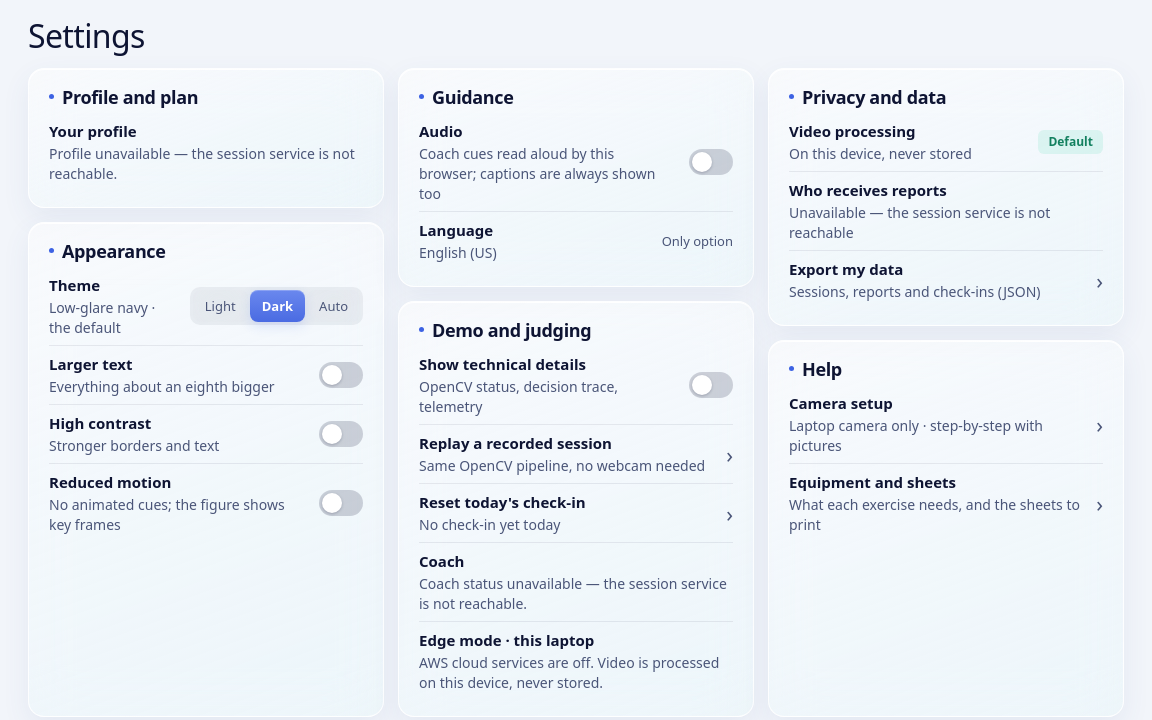
Scenario: theme is a Light / Dark / Auto choice, dark by default
The width and height of the screenshot is (1152, 720).
Click the radio button labelled "Light": click(220, 306) [193,290,248,322]
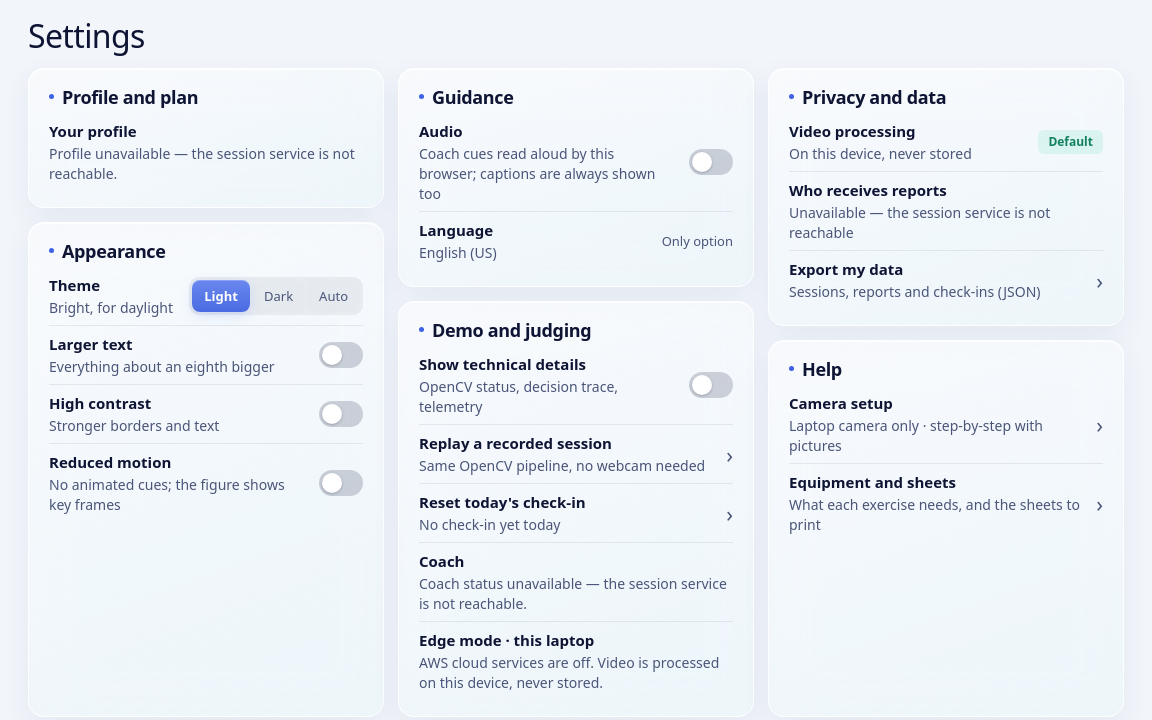
Click the radio button labelled "Auto": click(334, 296) [307,280,360,312]
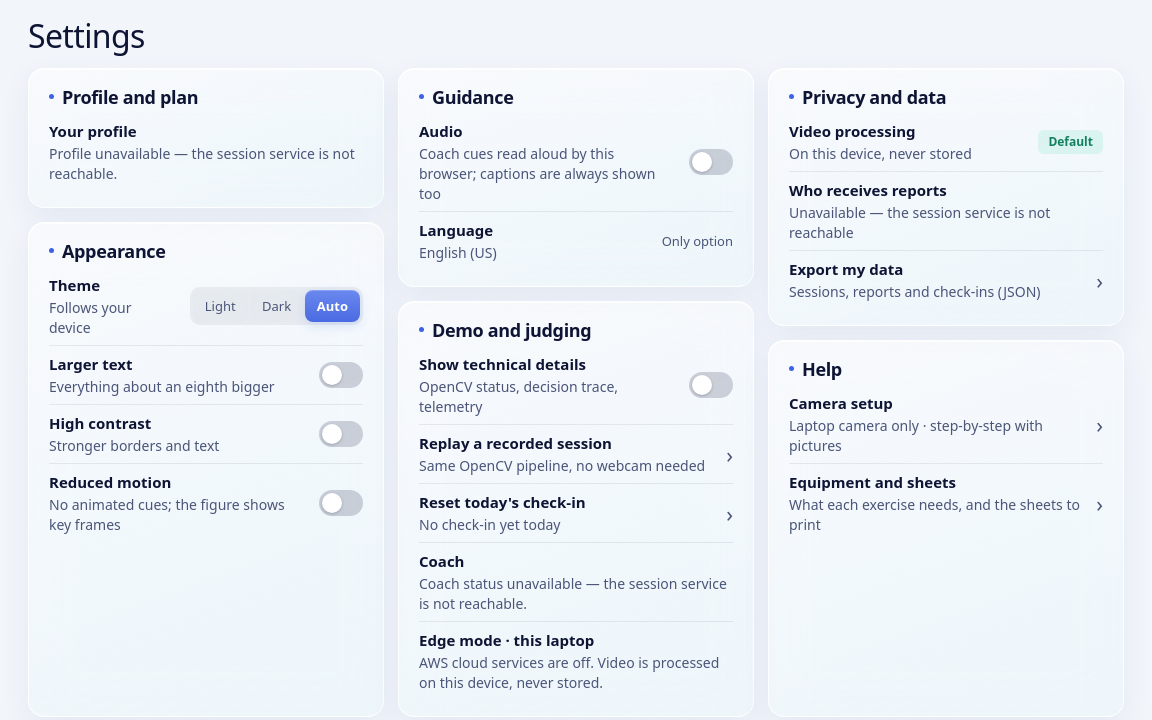
Result: the text "Follows your device" is shown at [49,298,132,336]
